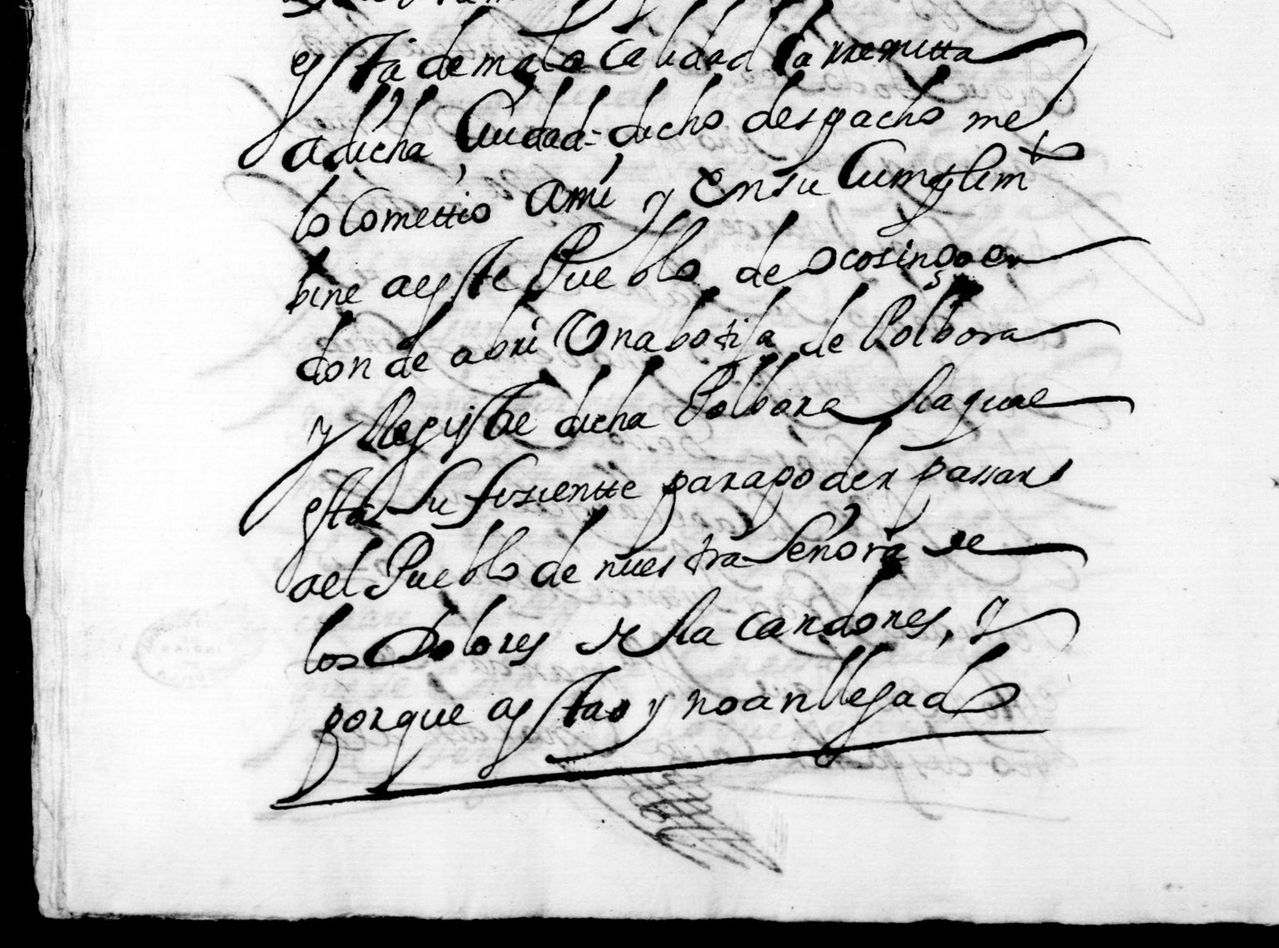lacandon: (617, 567, 951, 657)
